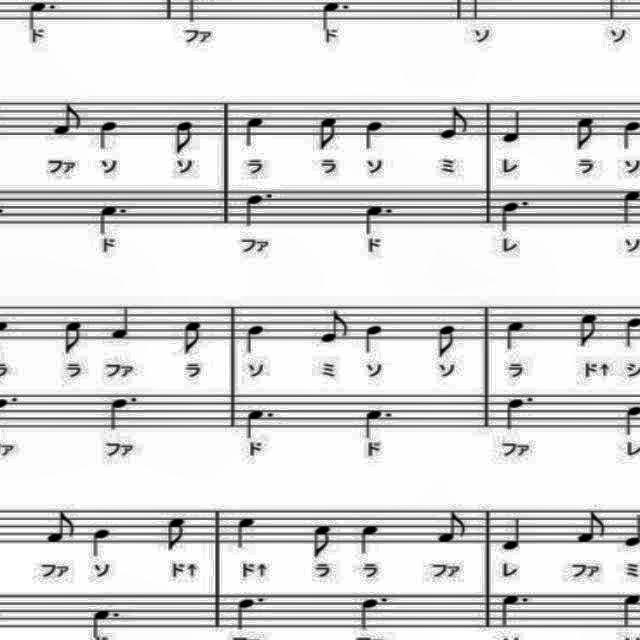Eighth-note: (48, 96, 88, 140), (318, 305, 352, 349), (40, 509, 80, 546), (572, 510, 608, 548), (436, 106, 472, 142), (438, 506, 470, 546), (309, 520, 339, 562), (574, 312, 604, 352), (432, 322, 460, 362), (162, 516, 190, 554), (181, 316, 207, 356), (63, 316, 85, 360), (172, 118, 196, 158), (318, 116, 342, 152), (575, 116, 597, 152)
Quarter-dot: (240, 186, 278, 230), (498, 390, 538, 430), (496, 195, 536, 233), (105, 392, 141, 432), (358, 592, 394, 632), (498, 592, 534, 632), (235, 592, 269, 634), (94, 200, 130, 236), (244, 404, 276, 442), (87, 608, 121, 640), (363, 200, 393, 236), (364, 406, 394, 442), (318, 0, 349, 32), (28, 0, 56, 30)
Quarter-note: (233, 514, 263, 556), (500, 109, 530, 149), (500, 517, 528, 555), (356, 520, 384, 556), (111, 298, 133, 342), (360, 323, 388, 357), (94, 116, 120, 152), (358, 116, 384, 152), (504, 318, 530, 354), (88, 526, 114, 560), (244, 323, 268, 357), (243, 115, 265, 149)
